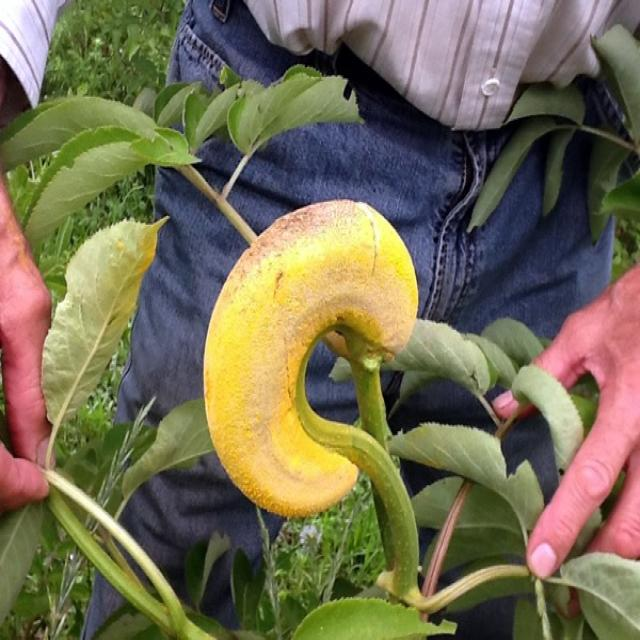Elderberry_rust: (201, 195, 420, 519)
